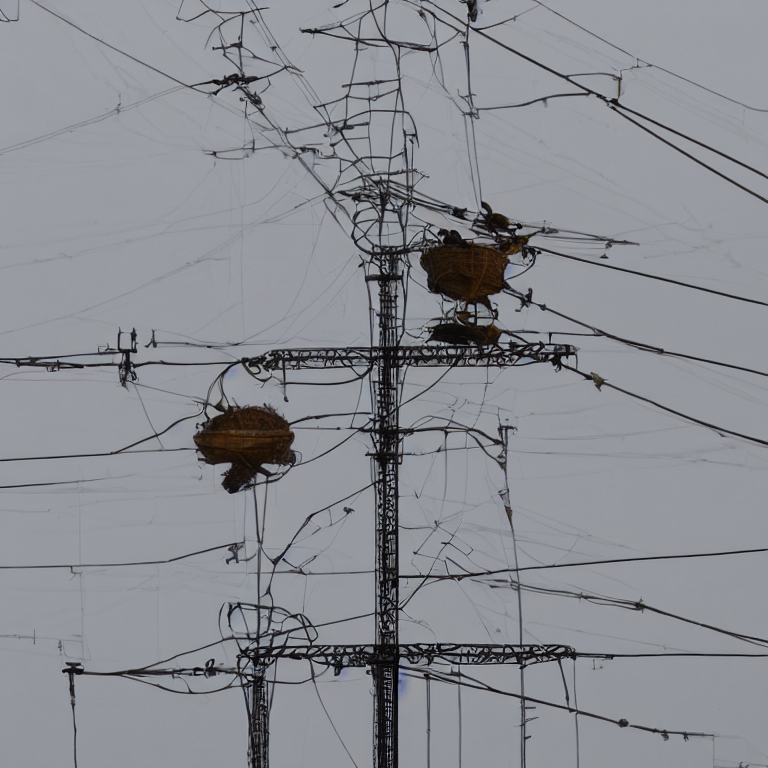nest: (197, 405, 295, 484), (423, 244, 512, 305)
